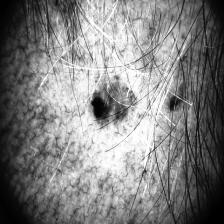Benign Marking or Mole: (90, 91, 140, 124)
